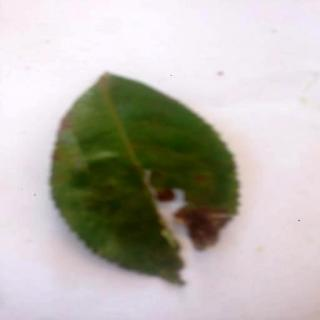Brown Blight: (50, 75, 242, 289)
